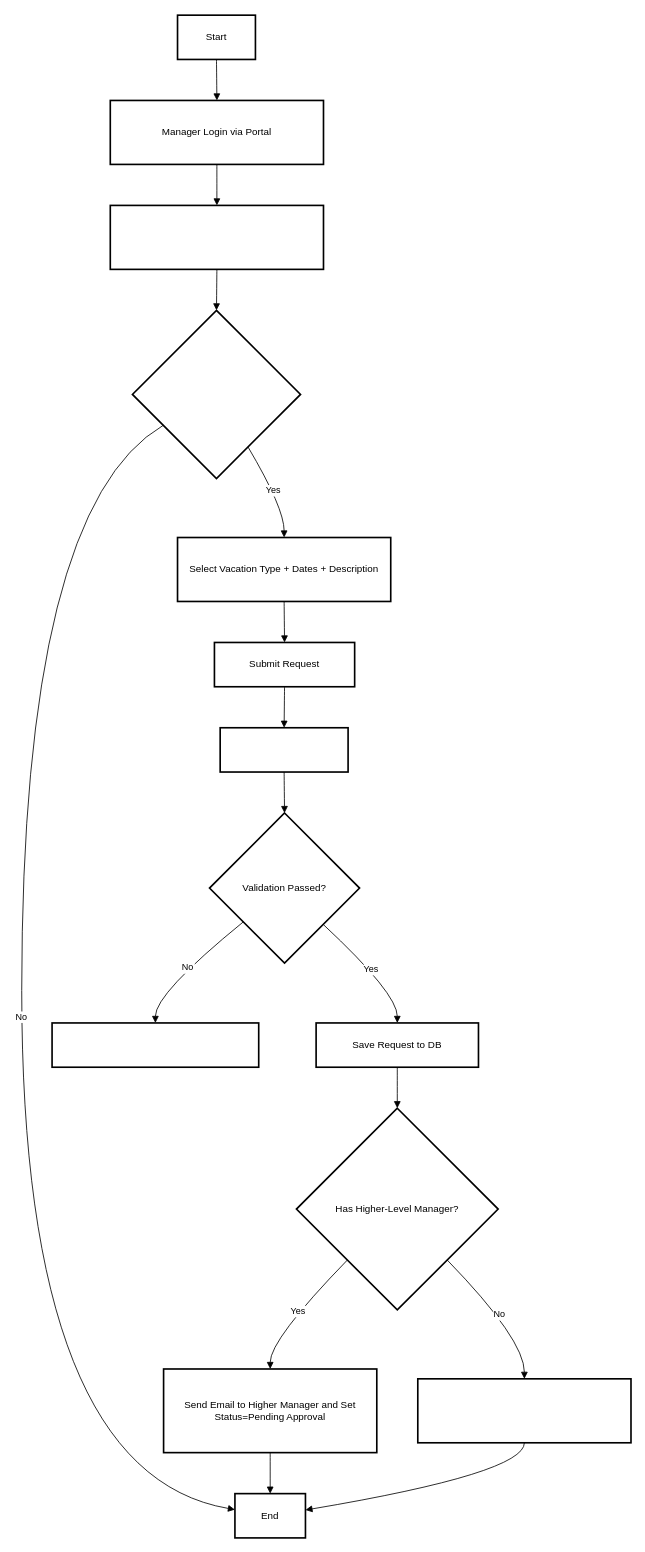
The diagram is 645 pixels wide and 1552 high, and some of its shapes have lost their labels. Each missing label, with the box of its shape:
Create New Request?: (131, 309, 301, 479)
Set Status=Approved Automatically: (417, 1378, 631, 1443)
Show Errors and Allow Edit: (51, 1022, 259, 1068)
Validate Data: (219, 727, 348, 772)
VTS Displays Previous Requests: (109, 204, 324, 270)
